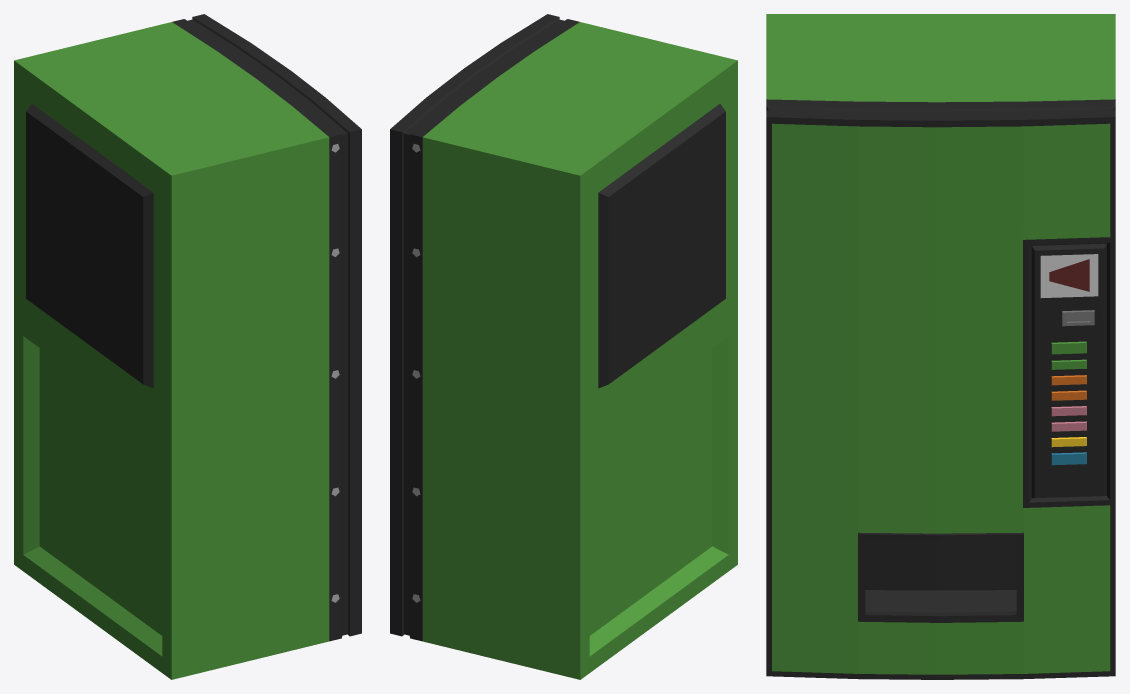
The model's file is SM_vending_machine_2.gltf.
3 renders of one model, left to right at view 1: azimuth 30°, elevation 25°; view 2: azimuth 150°, elevation 25°; view 3: azimuth 270°, elevation 25°, orthographic. The views are drawn at different scales.
Parts seen in each view (by area): view 1: SM_vending_machine_2; view 2: SM_vending_machine_2; view 3: SM_vending_machine_2.
Part boxes in pixels (box(x1,y1,x2,y2)): SM_vending_machine_2: box(14, 14, 361, 679); SM_vending_machine_2: box(390, 14, 737, 679); SM_vending_machine_2: box(766, 14, 1115, 679).
Bounding box in the file's own units: 0.9201 × 2.13 × 1.2.
1 material, 1 textured.
